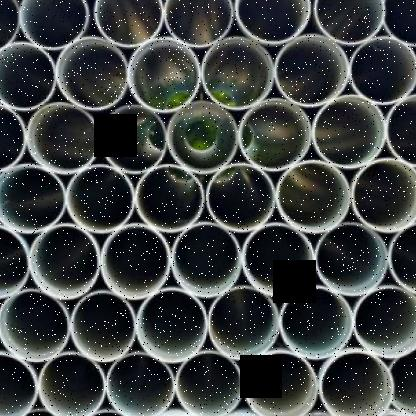pipe: (276, 160, 351, 234), (127, 38, 202, 112), (275, 34, 349, 108), (28, 224, 100, 300), (313, 95, 386, 169), (137, 289, 209, 364), (26, 102, 100, 174), (238, 99, 312, 171), (243, 224, 315, 297), (56, 37, 128, 110), (167, 100, 238, 174), (101, 224, 171, 299), (281, 287, 353, 359), (202, 37, 274, 109), (316, 224, 387, 296), (172, 223, 241, 297), (349, 157, 416, 233), (209, 288, 279, 360), (0, 289, 68, 362), (320, 350, 395, 416), (243, 350, 317, 416), (135, 165, 205, 233), (206, 164, 275, 232), (66, 166, 135, 233), (349, 35, 416, 104), (101, 104, 167, 174), (0, 164, 66, 234), (71, 292, 137, 362), (174, 350, 243, 416), (355, 287, 416, 360), (105, 352, 174, 416), (38, 352, 106, 416), (0, 42, 56, 111), (18, 0, 90, 51), (164, 0, 235, 48), (234, 0, 311, 44), (94, 0, 164, 47), (314, 0, 385, 44), (0, 353, 38, 416), (385, 93, 416, 168), (0, 224, 30, 299), (388, 224, 416, 297), (386, 347, 415, 416), (0, 105, 27, 174), (381, 0, 416, 48), (0, 0, 20, 54)
